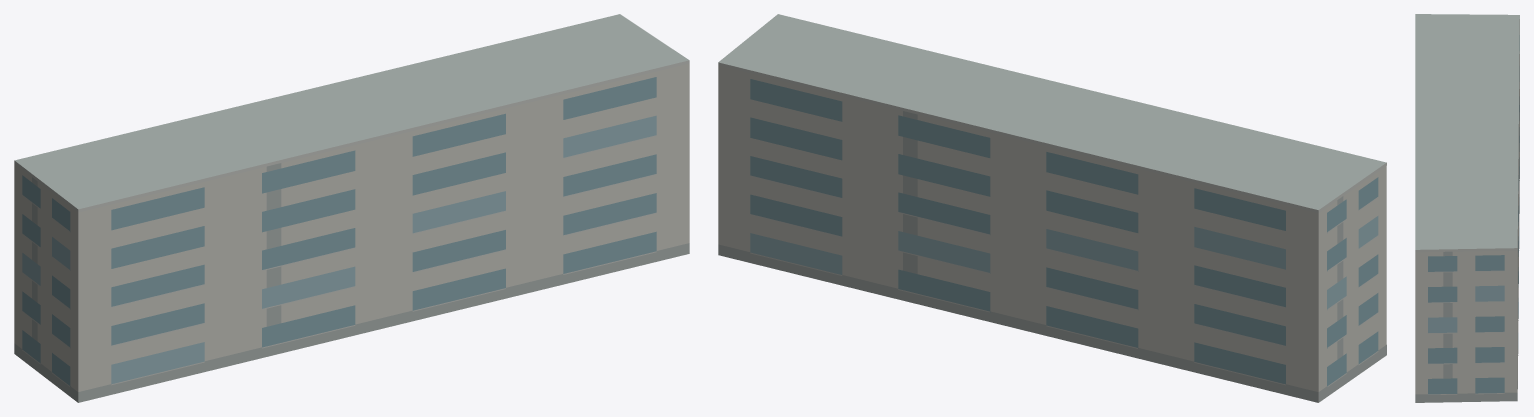
File: residential-4ec9a5e0-9ad2-45fc-b633-4fe3d5cc164b.glb
The picture shows the model from 3 angles, left to right: view 1: azimuth 30°, elevation 25°; view 2: azimuth 150°, elevation 25°; view 3: azimuth 270°, elevation 25°; orthographic projection. The views are drawn at different scales.
Parts seen in each view (by area): view 1: residential-4ec9a5e0-9ad2-45fc-b633-4fe3d5cc164b.tmp; view 2: residential-4ec9a5e0-9ad2-45fc-b633-4fe3d5cc164b.tmp; view 3: residential-4ec9a5e0-9ad2-45fc-b633-4fe3d5cc164b.tmp.
Boxes of the visible parts, x1,y1,x2,y2 form: residential-4ec9a5e0-9ad2-45fc-b633-4fe3d5cc164b.tmp: (14,14,689,402); residential-4ec9a5e0-9ad2-45fc-b633-4fe3d5cc164b.tmp: (718,14,1386,402); residential-4ec9a5e0-9ad2-45fc-b633-4fe3d5cc164b.tmp: (1415,14,1519,402).
Size of the model in its own units: 50.42 by 15.25 by 9.47.
